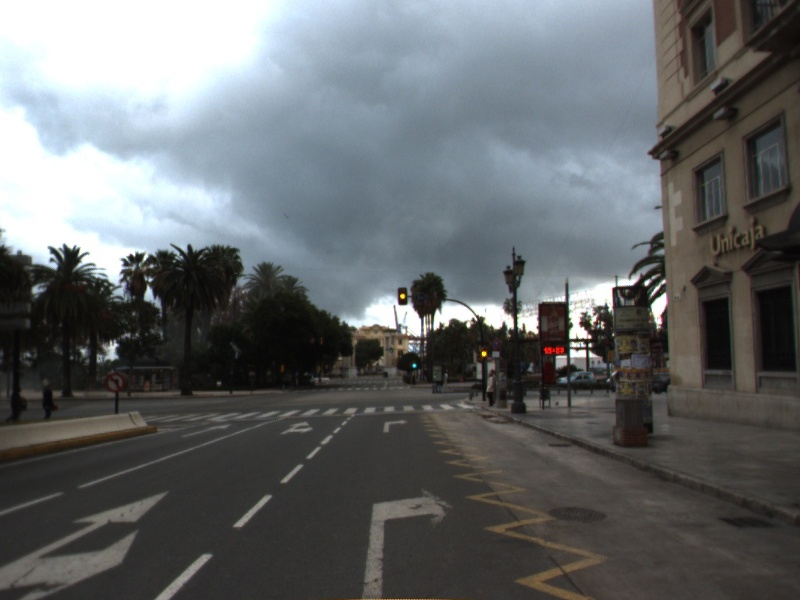RIGHT: (357, 484, 460, 600), (381, 417, 411, 435)
STRAIGHT: (178, 421, 235, 440)
STRAIGHT_RIGHT: (1, 488, 172, 600), (278, 419, 316, 436)
